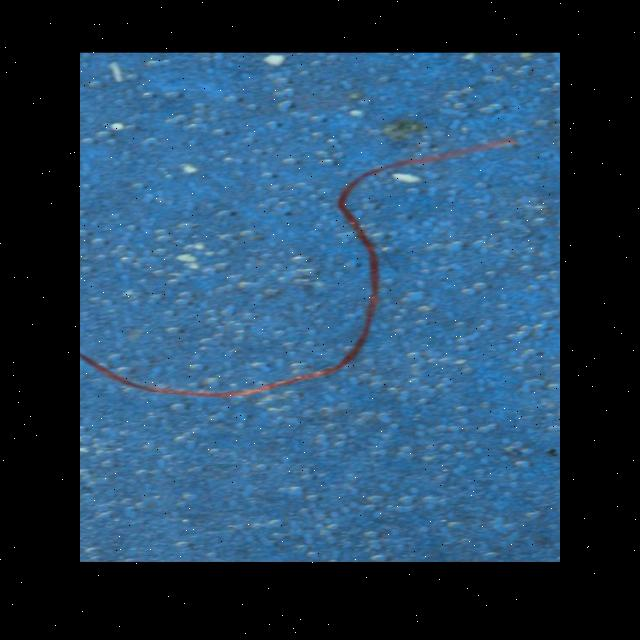Fibre: (80, 136, 518, 398)
